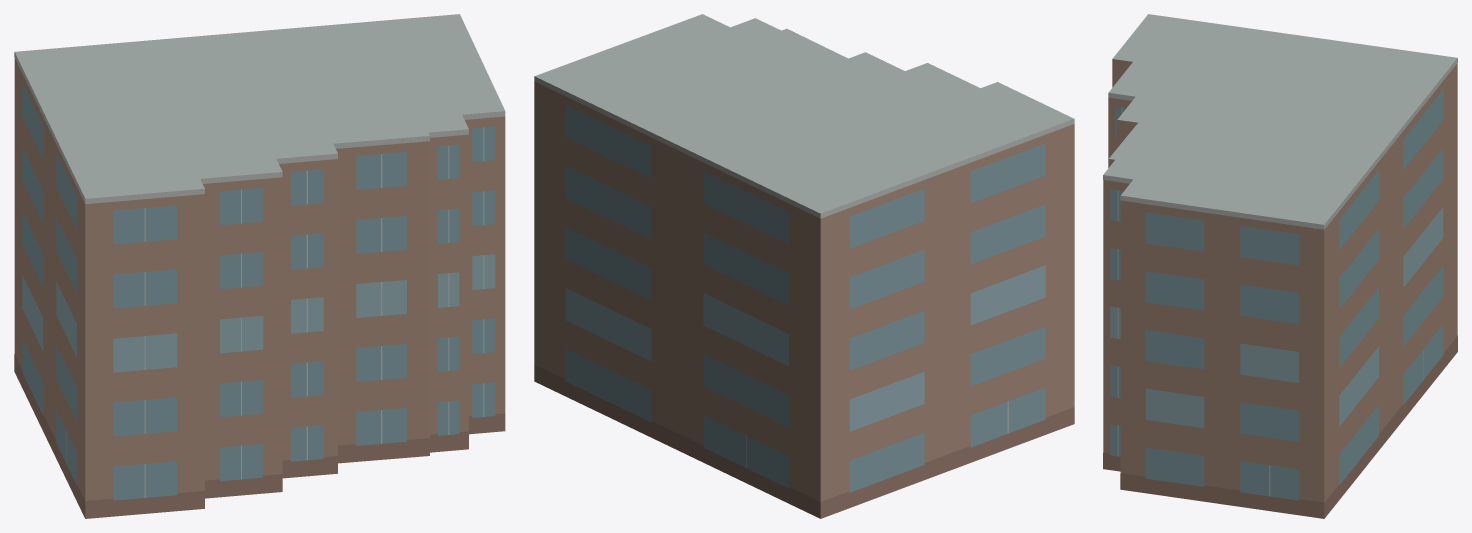
File: survey-upis-32657838.glb
3 views of the same model, side by side, from view 1: azimuth 30°, elevation 25°; view 2: azimuth 150°, elevation 25°; view 3: azimuth 270°, elevation 25° (orthographic). The views are drawn at different scales.
Parts seen in each view (by area): view 1: survey-upis-32657838.tmp; view 2: survey-upis-32657838.tmp; view 3: survey-upis-32657838.tmp.
Part boxes in pixels (x1,y1,x2,y2): survey-upis-32657838.tmp: (14,14,505,518); survey-upis-32657838.tmp: (534,14,1074,518); survey-upis-32657838.tmp: (1103,14,1457,518).
Bounding box in the file's own units: 22.62 × 14.7 × 16.08.
